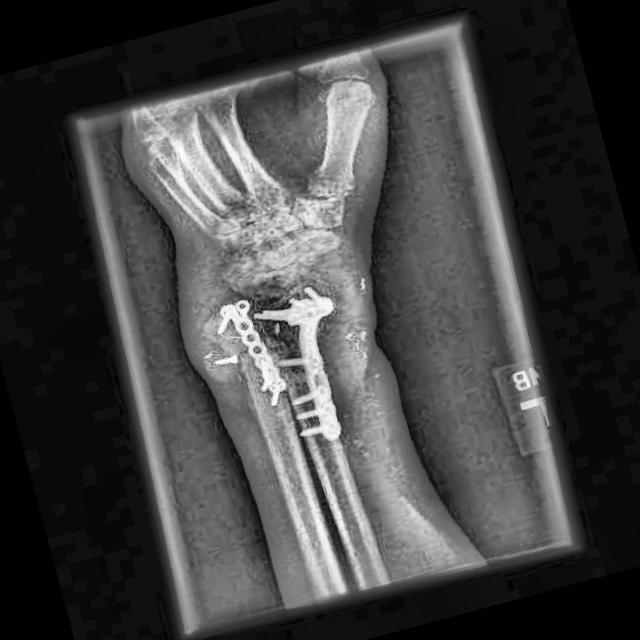fingers positive: (191, 269, 366, 405)
